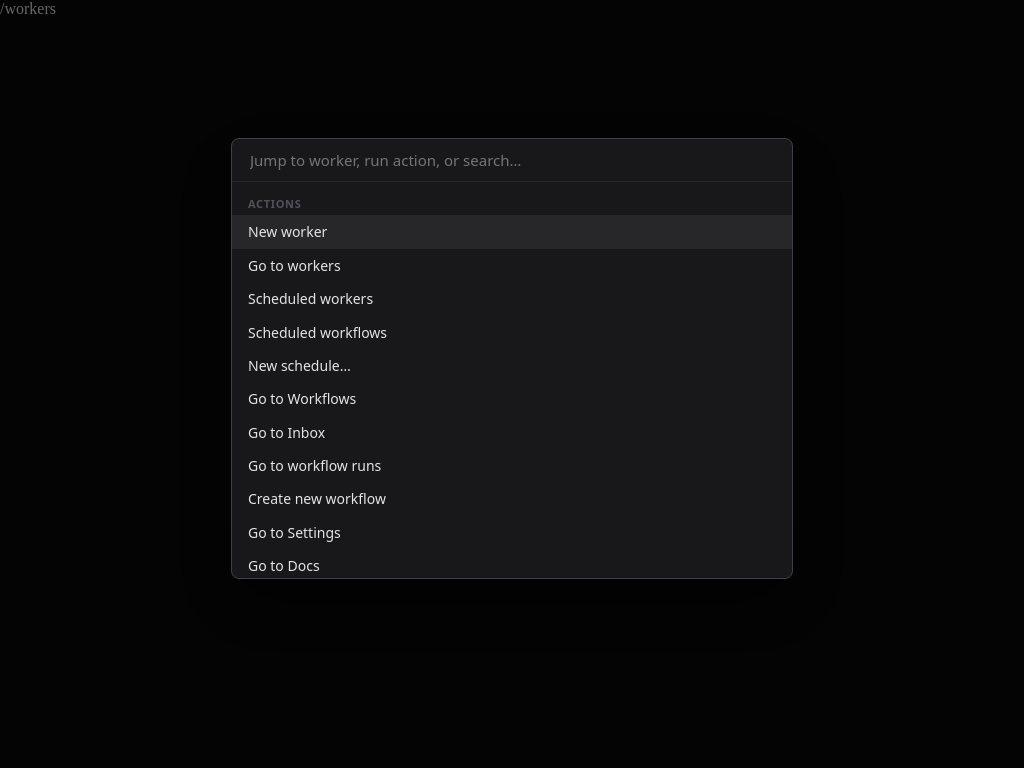
Test case: CommandPalette worker jump › jumps to an uncached bead id via /workers/:id
Type "fleet-xyz" into the dropdown with placeholder "Jump to worker, run action, or search…" at (514, 160), box [248, 149, 780, 171]
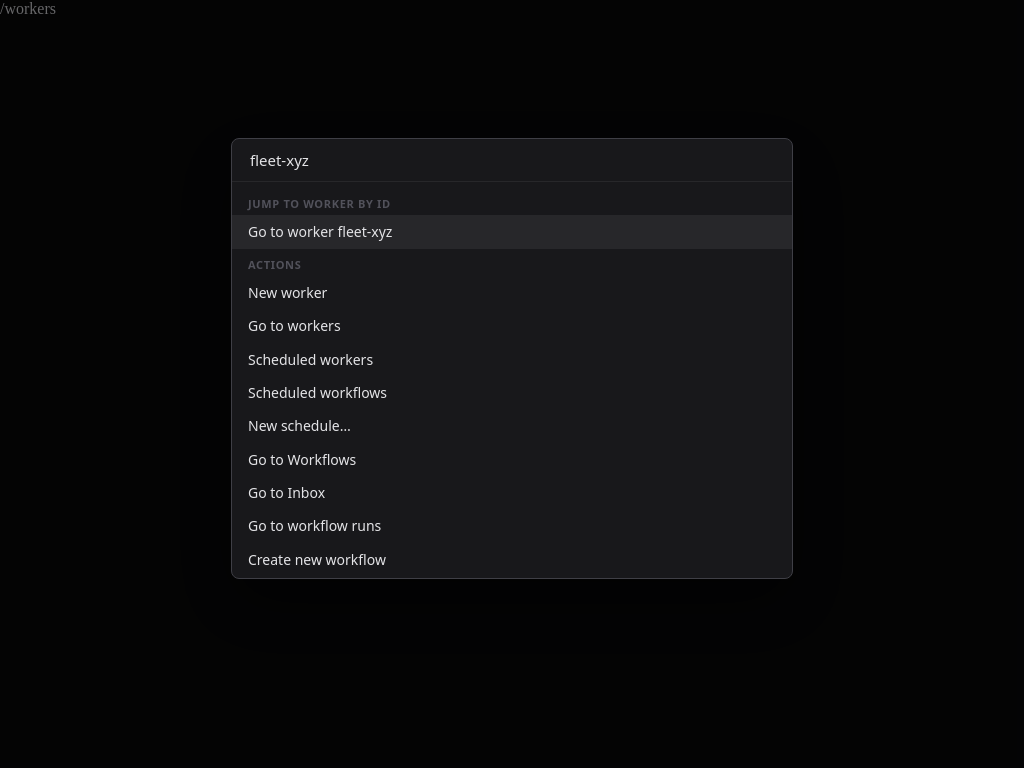
Click the option "Go to worker fleet-xyz" at (293, 232), box [232, 215, 792, 249]
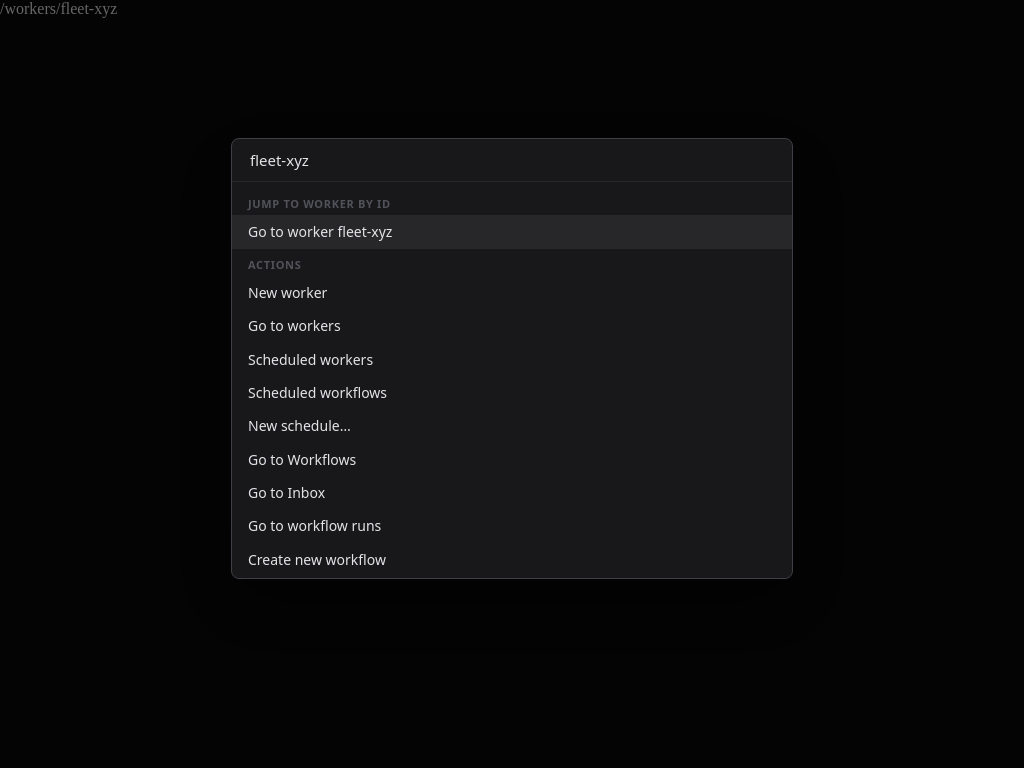
expect the text with test id "location" reads "/workers/fleet-xyz": met, box [0, 0, 117, 17]
